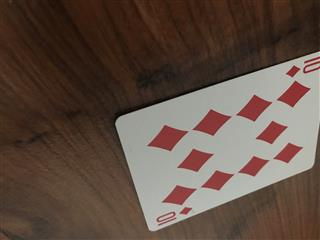TenOfDiamonds: (113, 49, 320, 231)
